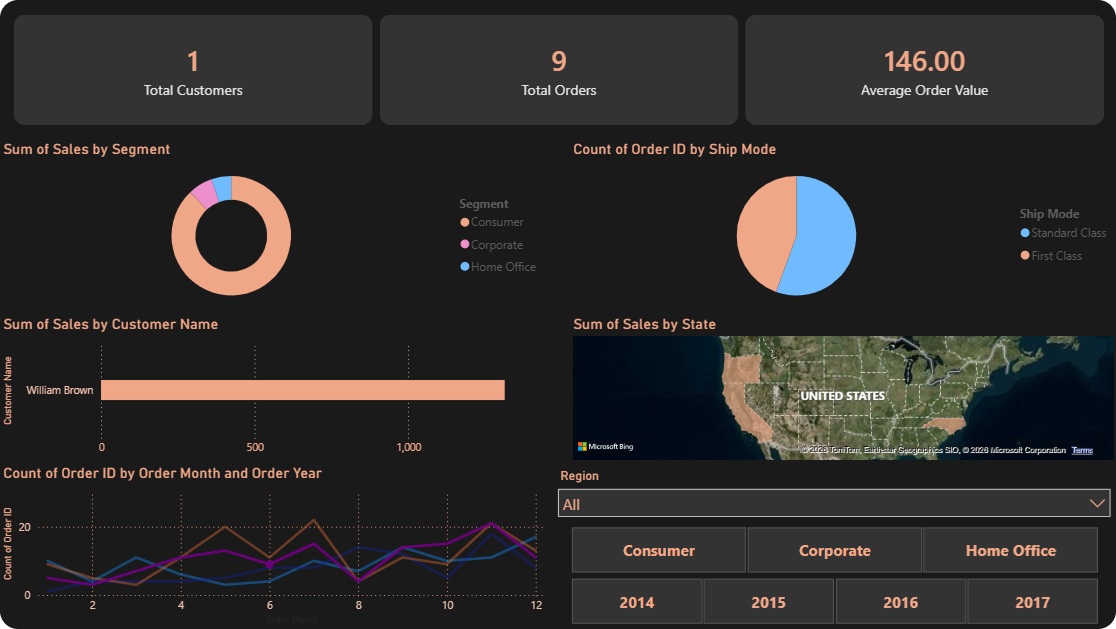

Layout of this report page (visuals, bound fields, positions):
{"tool":"powerbi","page":{"name":"Customer Analysis","canvas":[1280,720],"ordinal":2},"visuals":[{"type":"cardVisual","title":"Total Sales","fields":{"Data":["Count(Superstore Sales.Customer Name)","CountNonNull(Superstore Sales.Order ID)","Avg(Superstore Sales.Sales)"]},"box":[0,0,1280,160],"z":0},{"type":"donutChart","fields":{"Category":["Superstore Sales.Segment"],"Y":["Sum(Superstore Sales.Sales)"]},"box":[0,160,628.3,200],"z":1000},{"type":"pieChart","fields":{"Category":["Superstore Sales.Ship Mode"],"Y":["CountNonNull(Superstore Sales.Order ID)"]},"box":[651.7,160,628.3,200],"z":2000},{"type":"clusteredBarChart","fields":{"Category":["Superstore Sales.Customer Name"],"Y":["Sum(Superstore Sales.Sales)"]},"box":[0,360,628.3,170],"z":3000},{"type":"filledMap","fields":{"Category":["Superstore Sales.State"]},"box":[651.7,360,628.3,170],"z":4000},{"type":"lineChart","fields":{"Category":["Superstore Sales.Order Month"],"Y":["CountNonNull(Superstore Sales.Order ID)"],"Series":["Superstore Sales.Order Year"]},"box":[0,530,628.6,190],"z":4001},{"type":"slicer","fields":{"Values":["Superstore Sales.Segment"]},"box":[628.6,595.7,651.4,65.7],"z":4002},{"type":"slicer","fields":{"Values":["Superstore Sales.Order Year"]},"box":[628.6,654.3,651.4,65.7],"z":4003},{"type":"slicer","fields":{"Values":["Superstore Sales.Region"]},"box":[628.6,530,651.4,65.7],"z":4004}]}

Visuals, with their boxes in screenshot pixels (x1, y1, x2, y2), scaled from the page's 1280x720 canvas onto the 1116x629 screenshot:
"Total Sales" cardVisual: rect(0, 0, 1115, 140)
donutChart - Superstore Sales.Segment x Sum(Superstore Sales.Sales): rect(0, 140, 548, 314)
pieChart - Superstore Sales.Ship Mode x CountNonNull(Superstore Sales.Order ID): rect(568, 140, 1115, 314)
clusteredBarChart - Superstore Sales.Customer Name x Sum(Superstore Sales.Sales): rect(0, 314, 548, 463)
filledMap - Superstore Sales.State: rect(568, 314, 1115, 463)
lineChart - Superstore Sales.Order Month x CountNonNull(Superstore Sales.Order ID): rect(0, 463, 548, 628)
slicer - Superstore Sales.Segment: rect(548, 520, 1115, 578)
slicer - Superstore Sales.Order Year: rect(548, 572, 1115, 628)
slicer - Superstore Sales.Region: rect(548, 463, 1115, 520)
